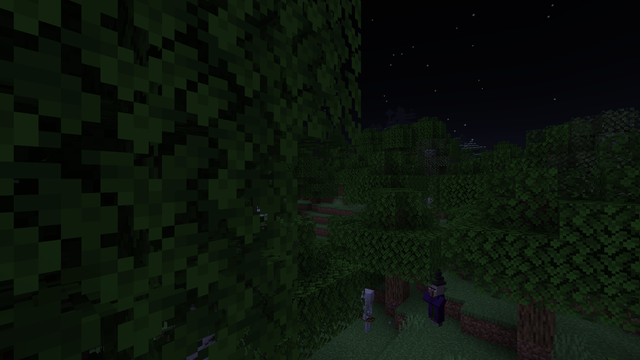sorcieres: (427, 279, 444, 328)
squelettes: (359, 287, 375, 334)
